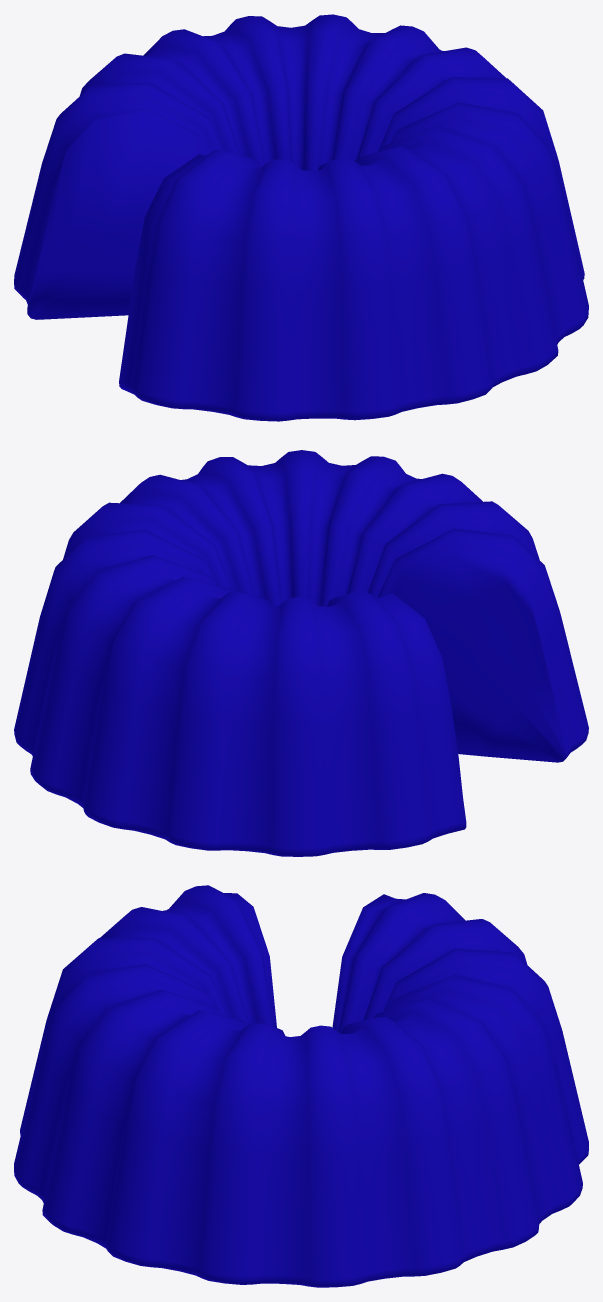
Rendered from jello.glb.
The picture shows the model from 3 angles, top to bottom: view 1: azimuth 30°, elevation 25°; view 2: azimuth 150°, elevation 25°; view 3: azimuth 270°, elevation 25°; orthographic projection.
Visible parts, largest first — view 1: Cylinder.001; view 2: Cylinder.001; view 3: Cylinder.001.
Boxes of the visible parts, x1,y1,x2,y2 form: Cylinder.001: (14, 14, 588, 421); Cylinder.001: (14, 450, 588, 856); Cylinder.001: (14, 885, 588, 1287).
Bounding box in the file's own units: 18.37 × 7.96 × 19.31.
